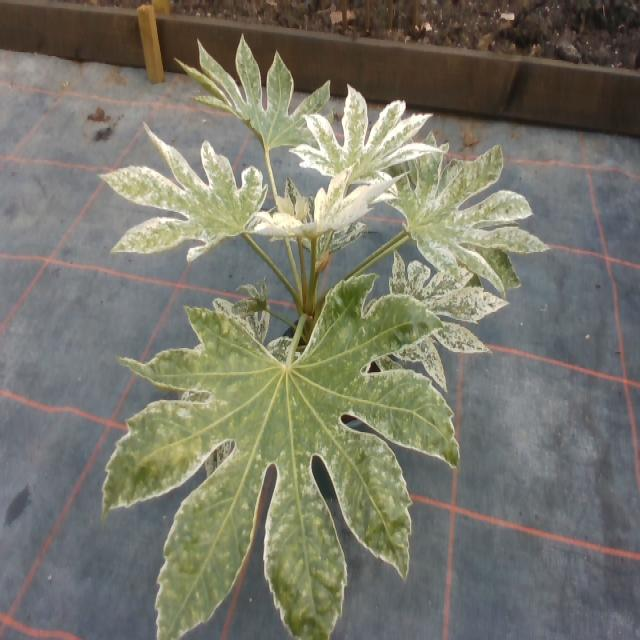Fatsia-japonica: (103, 270, 475, 640), (366, 107, 538, 306), (97, 121, 260, 258), (185, 28, 331, 158), (277, 72, 417, 204), (396, 241, 502, 383), (252, 182, 392, 248), (291, 190, 366, 253)
